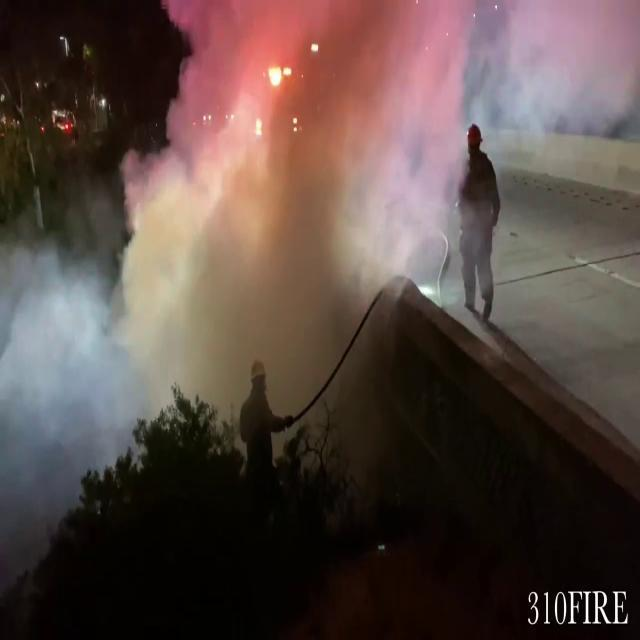Smoke: (112, 0, 498, 438), (0, 225, 129, 521)
